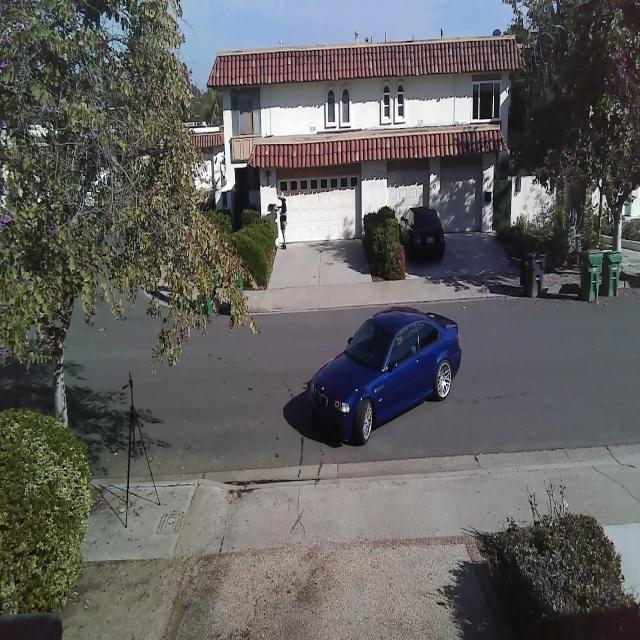Carbeetle: (290, 302, 465, 449)
Civilian: (399, 205, 445, 263)
